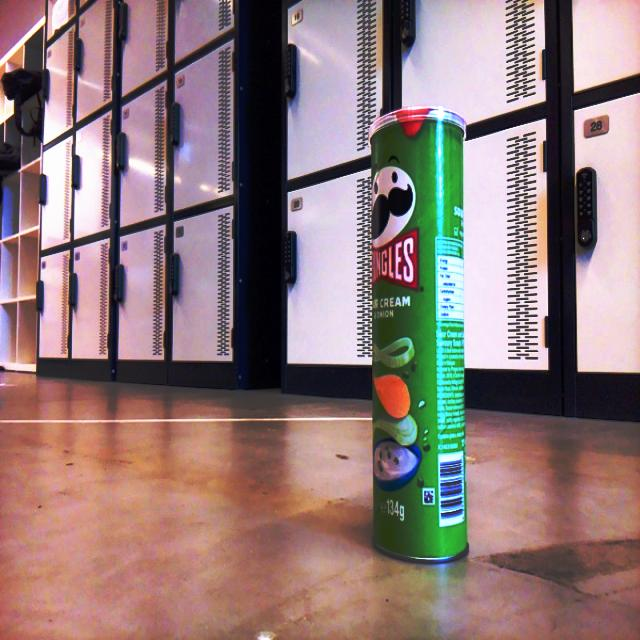greenpringles: (355, 103, 485, 576)
